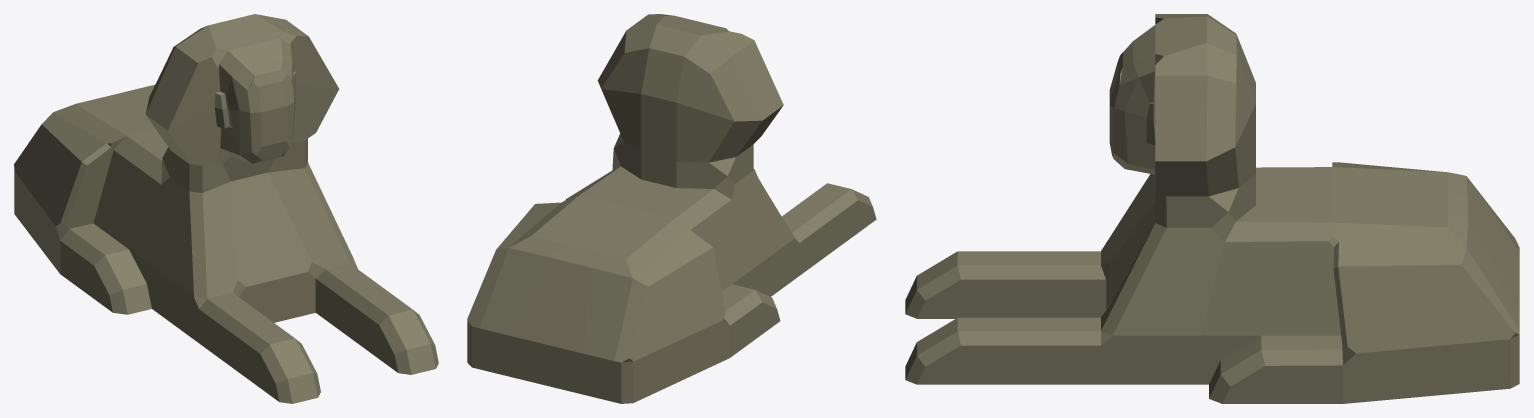
Rendered from WM_Sphinx.fbx.
3 renders of one model, left to right at view 1: azimuth 30°, elevation 25°; view 2: azimuth 150°, elevation 25°; view 3: azimuth 270°, elevation 25°, orthographic. The views are drawn at different scales.
Parts seen in each view (by area): view 1: pCube24; view 2: pCube24; view 3: pCube24.
Part boxes in pixels (left/top/right/bottom): pCube24: left=14, top=14, right=438, bottom=403; pCube24: left=467, top=14, right=876, bottom=403; pCube24: left=905, top=14, right=1519, bottom=403.
Bounding box in the file's own units: 3.98 × 4.53 × 8.14.
